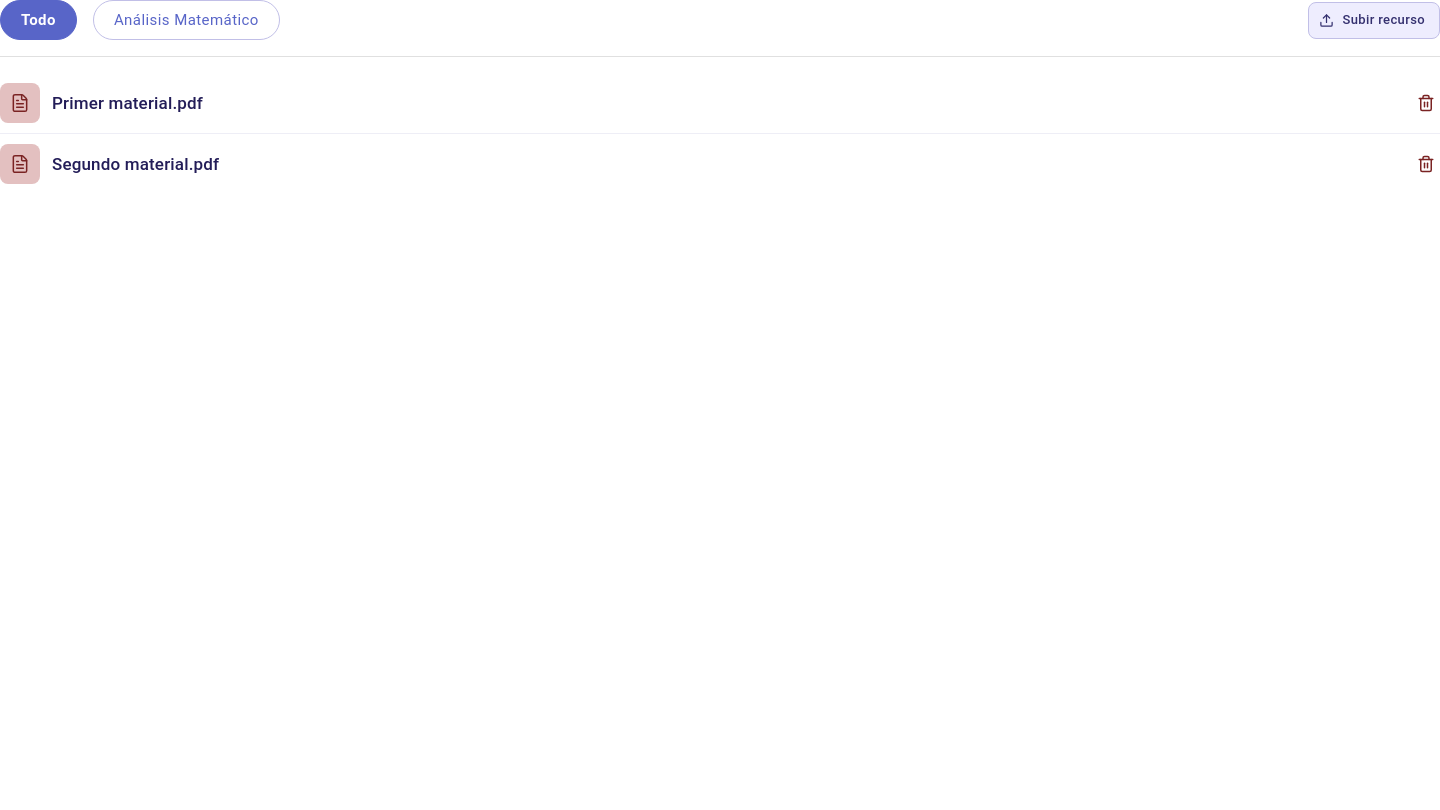
Test case: MaterialsSection › abre el diálogo con el material seleccionado
What coordinates should you click on to do the following:
click the button named "Eliminar Primer material.pdf"
I would click on:
 (1426, 103)
Its box is x1=1412 y1=89 x2=1439 y2=117.
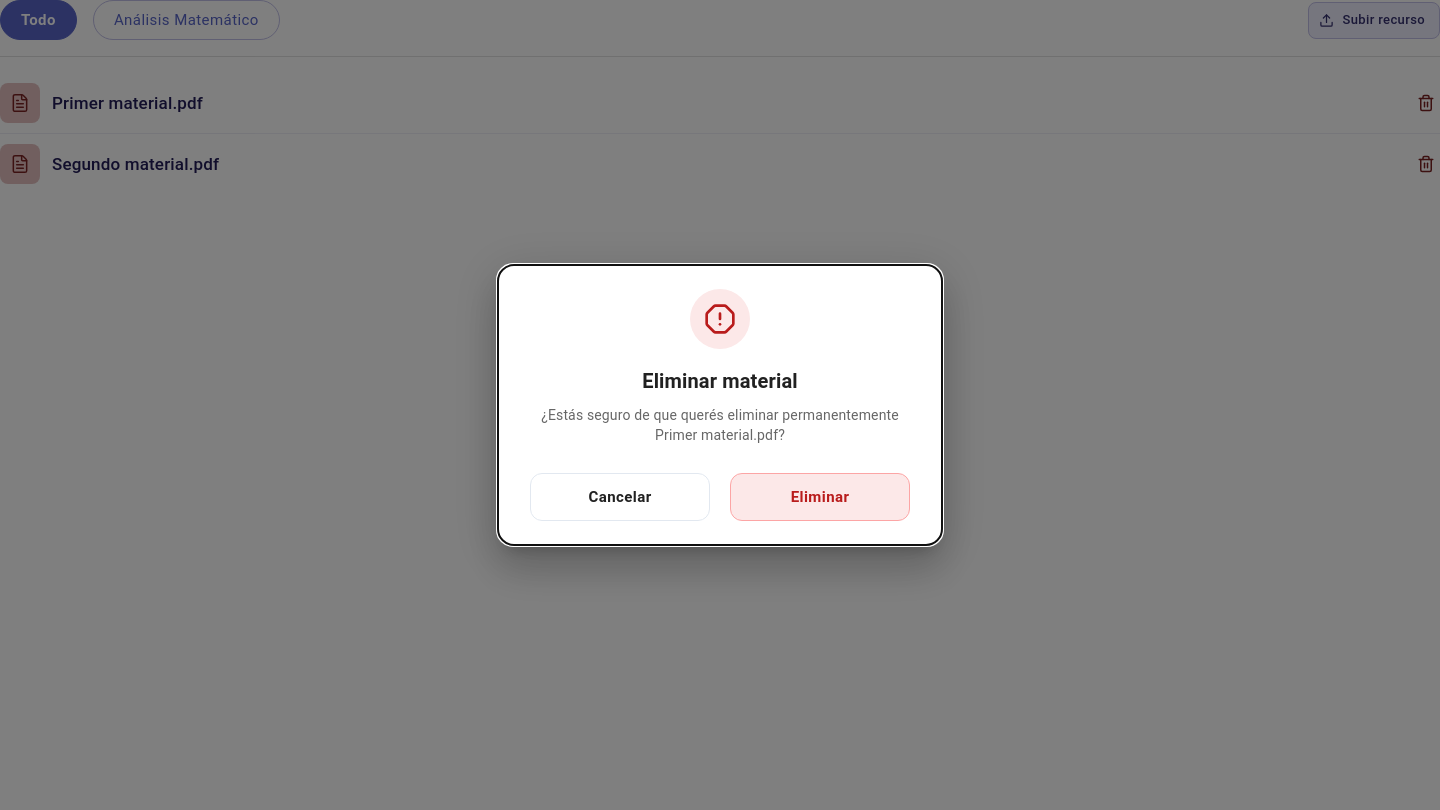
Check: the text "¿Estás seguro de que querés eliminar permanentemente Primer material.pdf?" is shown, box x1=530 y1=405 x2=910 y2=445
